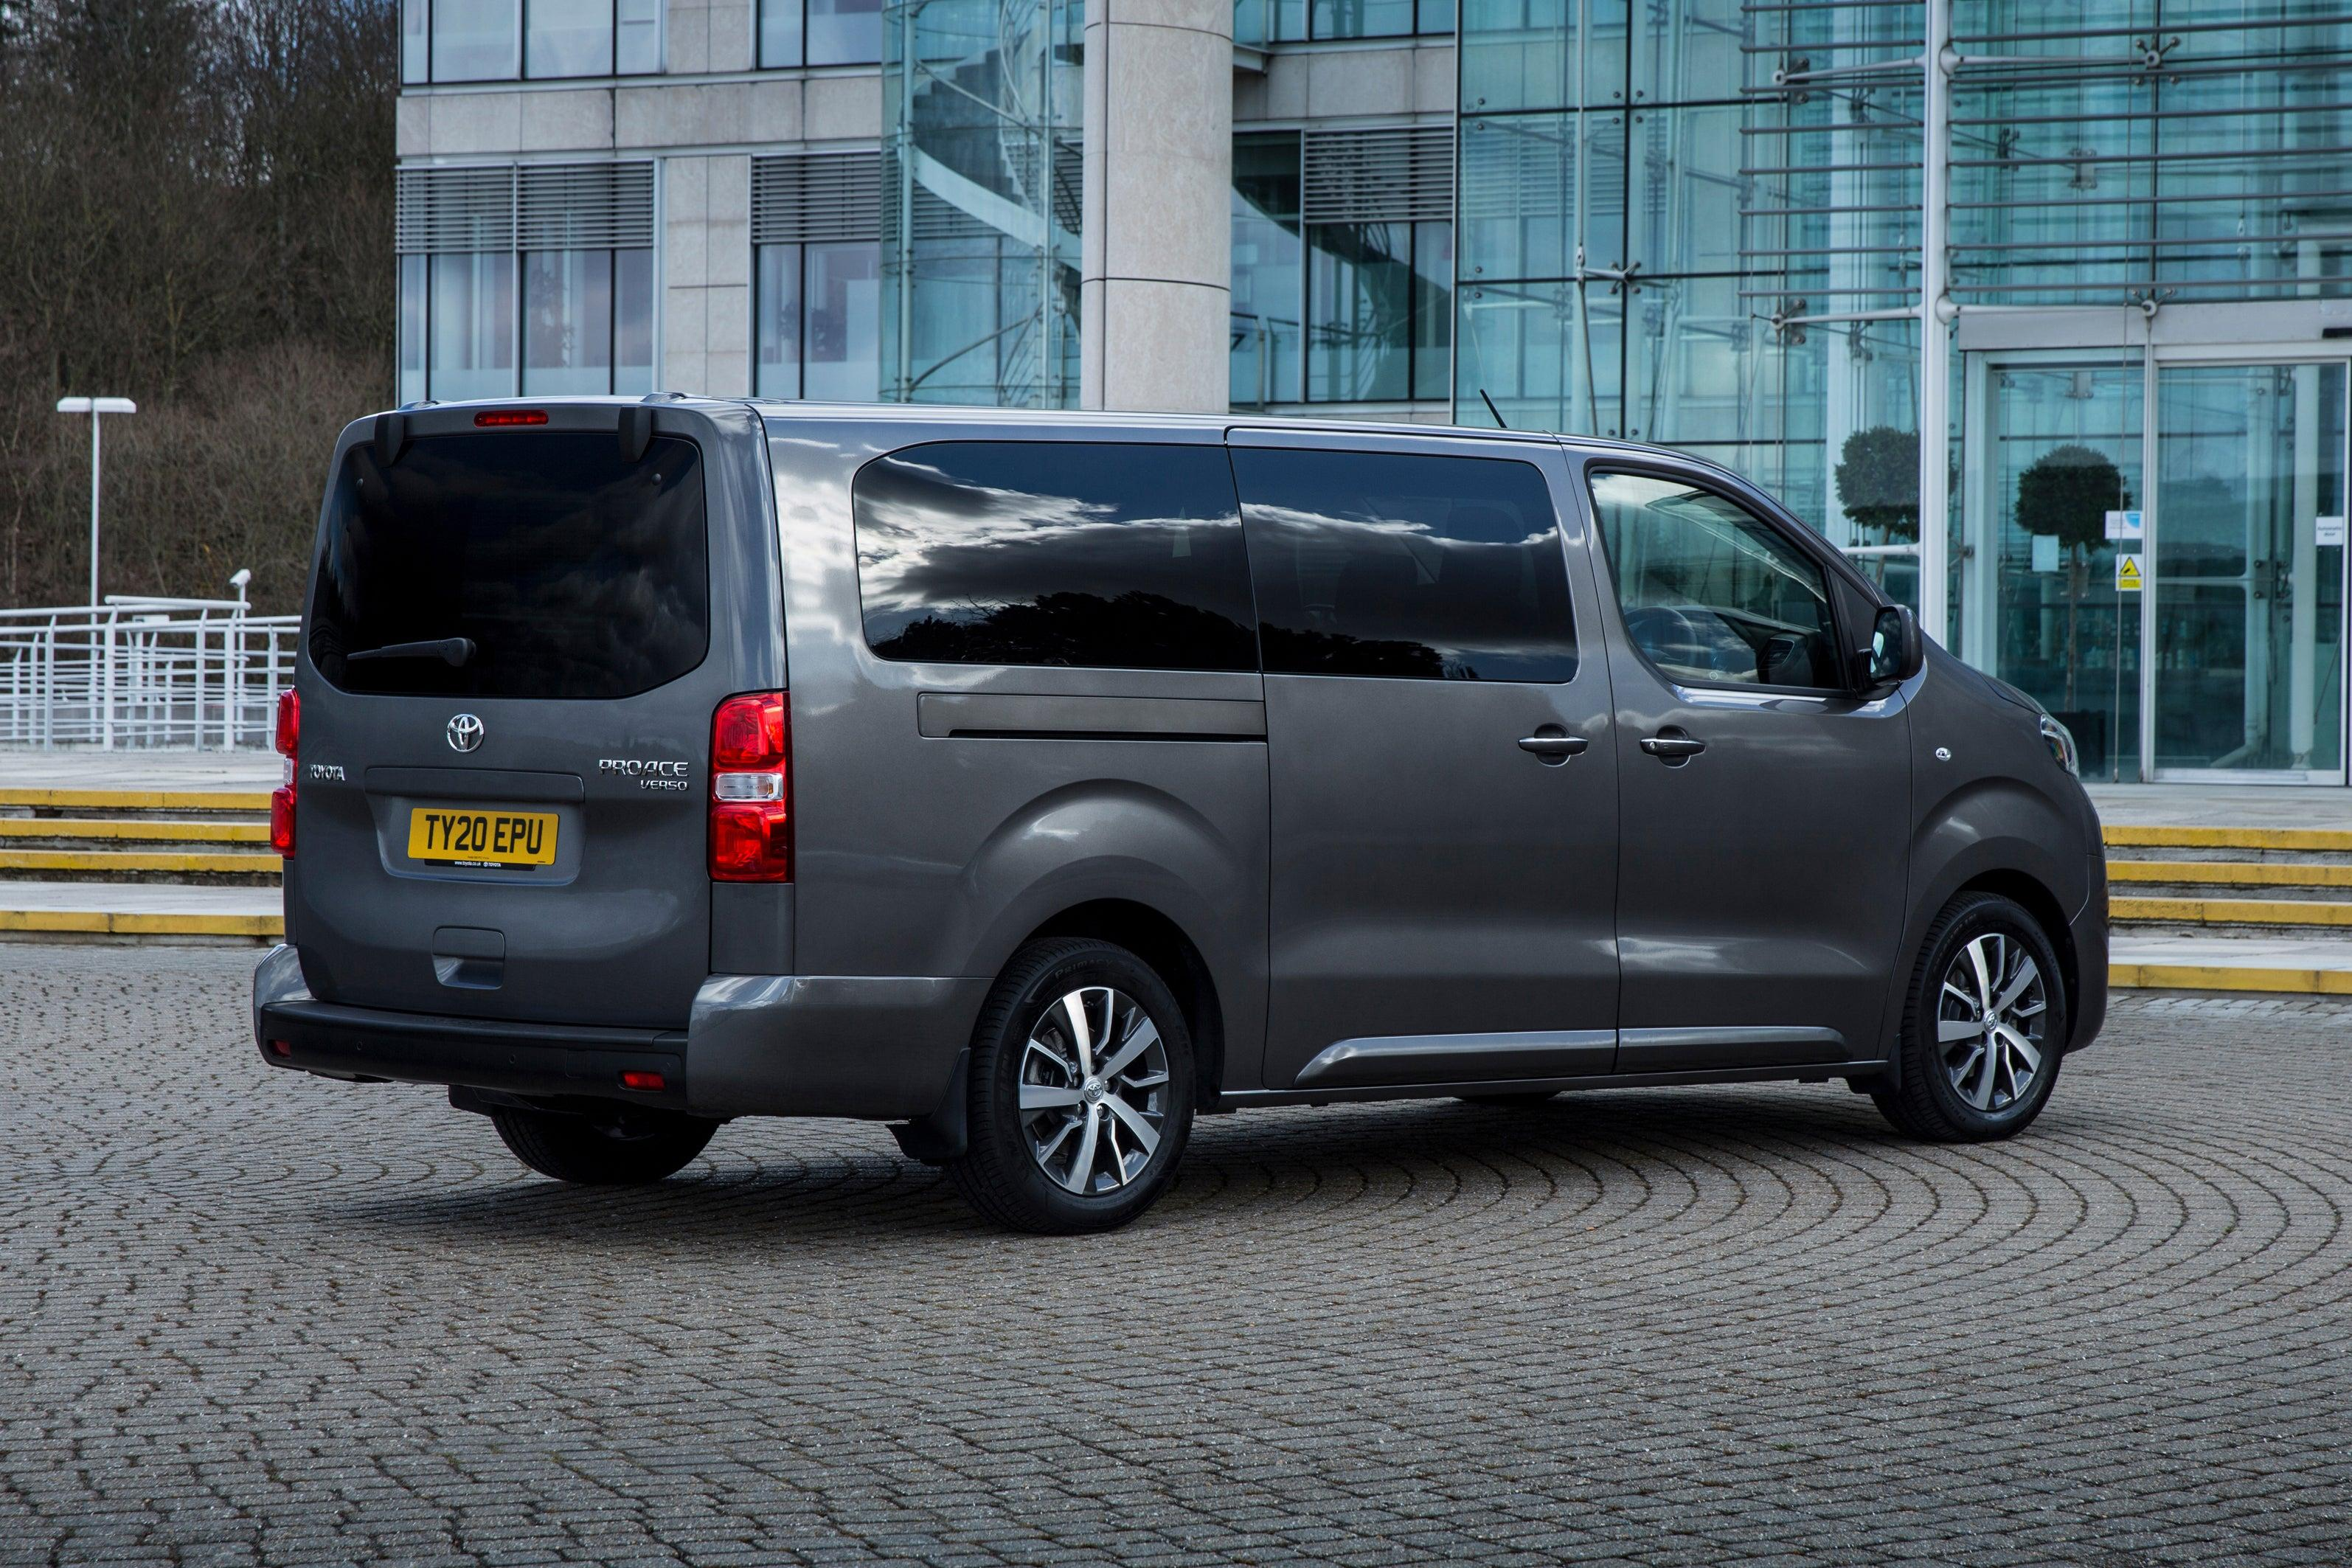van: (252, 394, 2112, 1237)
